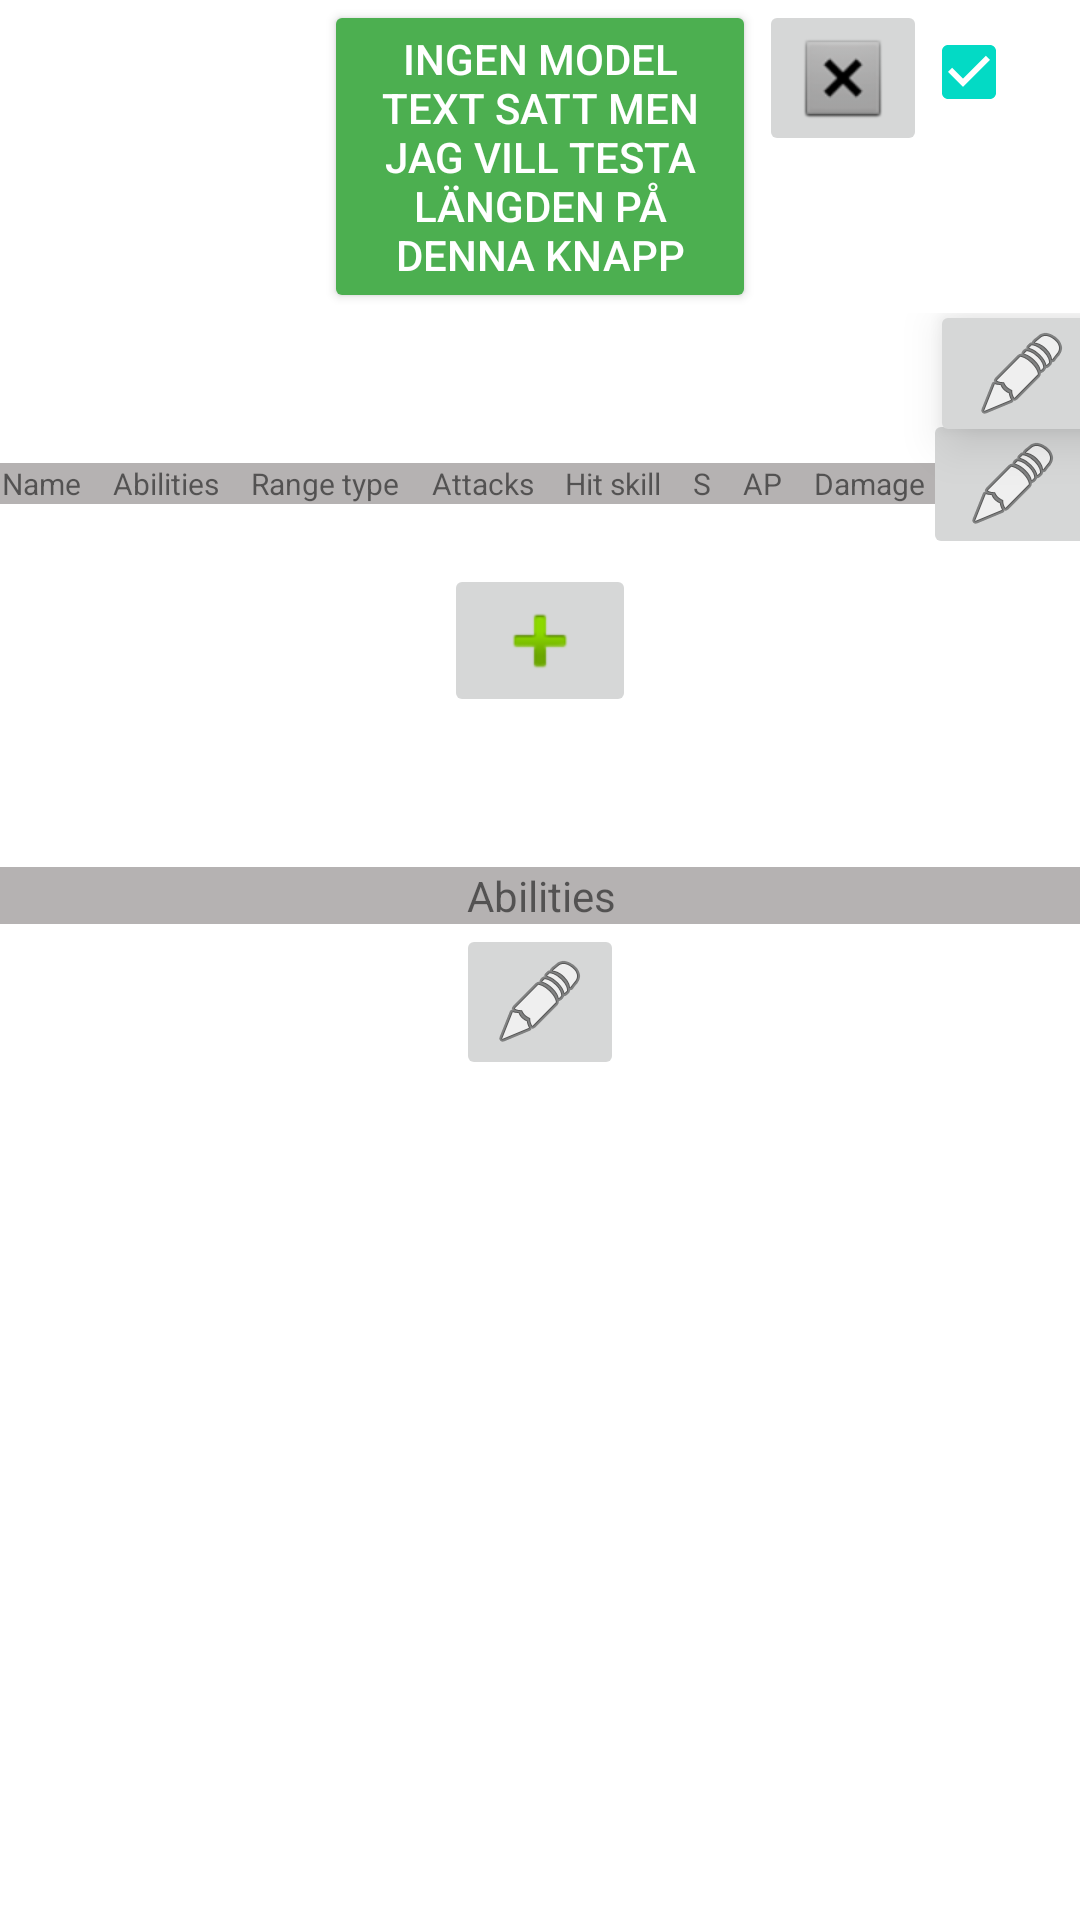

Named icons in this screenshot (1080*1920) and their centers, point (x, y):
add: point (540, 640)
